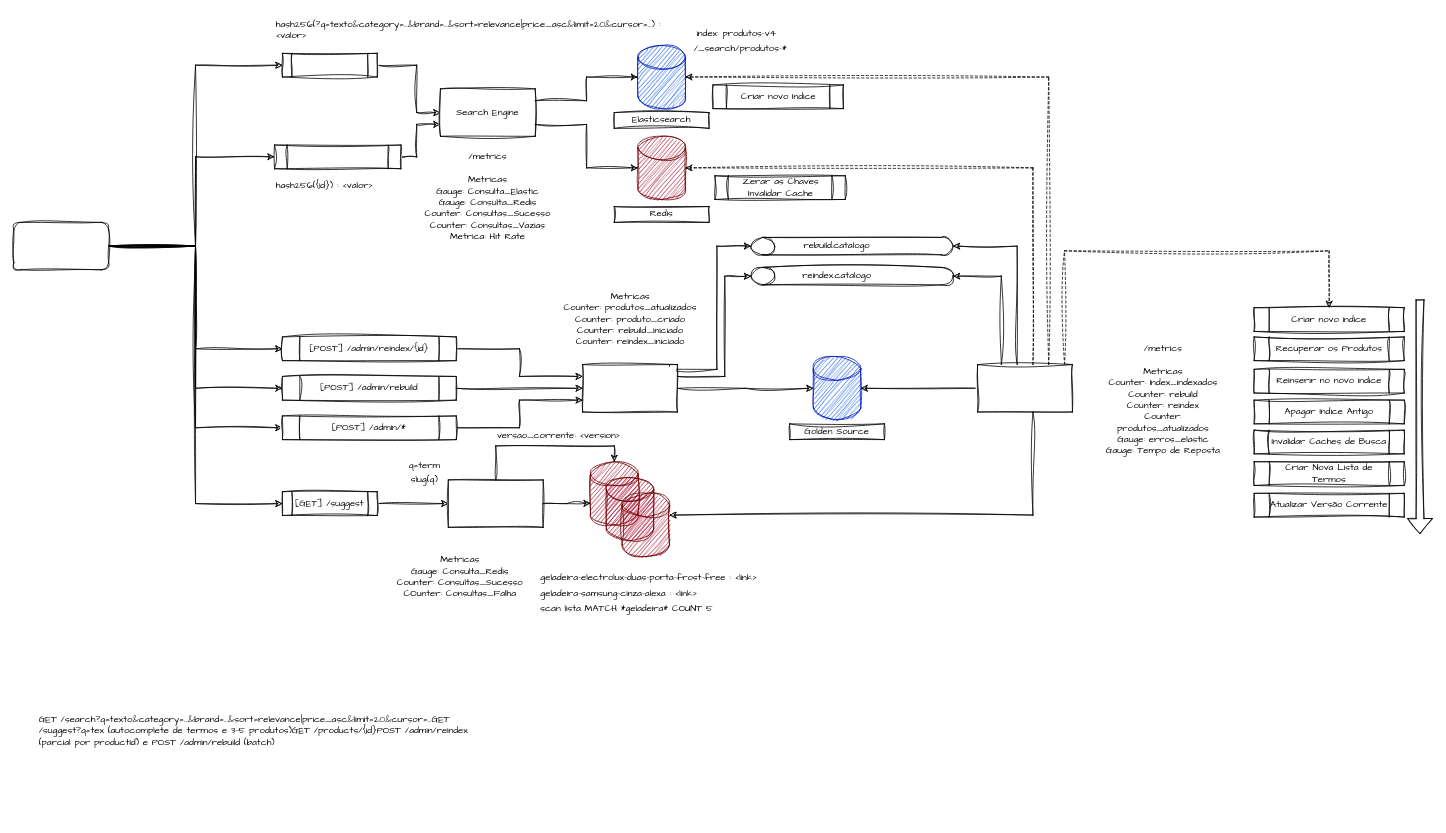
Some shapes in this 1446 by 833 pixel diagram are drawn without their labels. Here are the shapes that lost their labels. From the top down, the centre of each, then its label:
At point 329,65: "[GET] /search".
At point 337,156: "[GET] /products/{id}".
At point 61,246: "API Gateway".
At point 629,388: "Backoffice".
At point 1024,388: "Worker de Rebuild".
At point 495,503: "Suggestion Engine".
